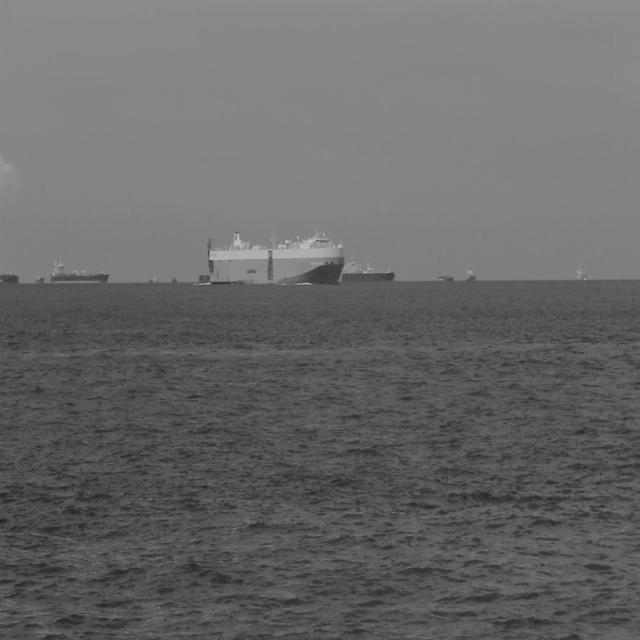boat: (149, 273, 159, 284)
ship: (205, 226, 344, 286), (50, 254, 110, 285), (341, 254, 395, 282), (0, 264, 20, 285), (575, 263, 587, 280), (465, 264, 476, 282), (34, 269, 45, 285), (437, 273, 454, 282), (198, 273, 209, 284)
